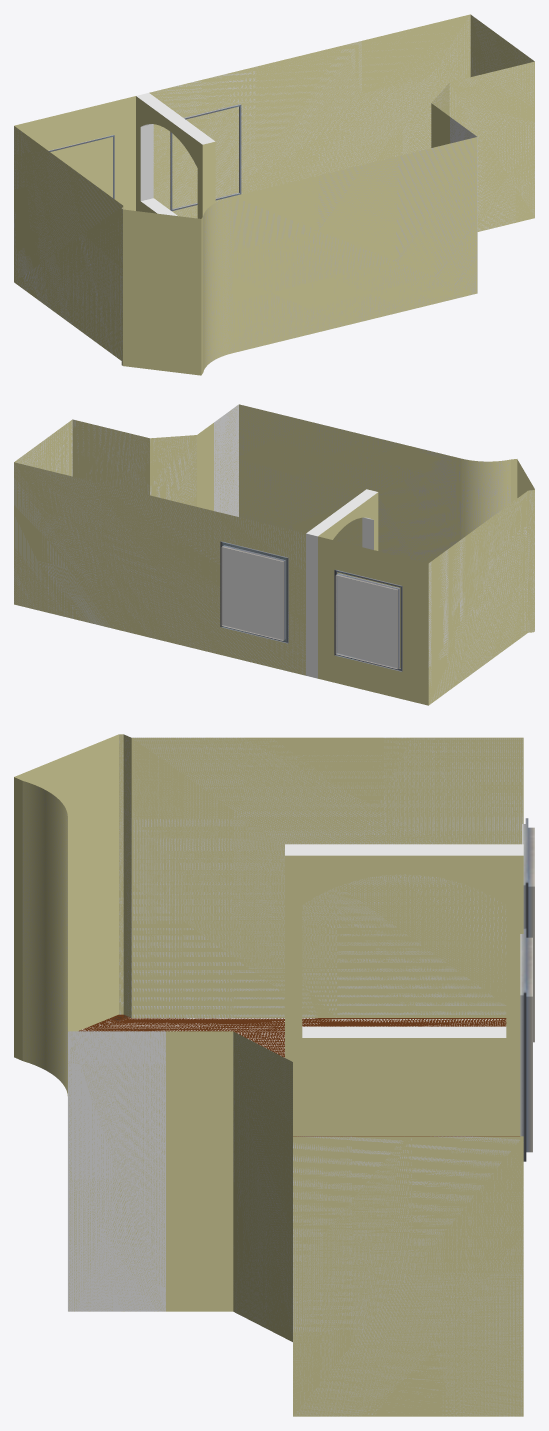
The model's file is Loft_Tmp2.fbx.
3 renders of one model, top to bottom at view 1: azimuth 30°, elevation 25°; view 2: azimuth 150°, elevation 25°; view 3: azimuth 270°, elevation 25°, orthographic. The views are drawn at different scales.
Visible parts, largest first — view 1: ID145, ID84, ID137, ID111, ID42, SketchUp, ID131, ID66, ID17; view 2: ID145, ID84, ID137, ID42, ID72, ID78, ID131, ID66, Window (×2), ID25 (×2), ID50, ID111 (+1 smaller); view 3: ID137, ID145, ID131, ID42, ID111, ID84, ID92, ID66, Window (×2), SketchUp, ID25, ID17.
Boxes of the visible parts, x1,y1,x2,y2 form: ID145: [149, 14, 534, 231]; ID84: [203, 137, 477, 371]; ID137: [14, 126, 123, 365]; ID111: [123, 209, 203, 375]; ID42: [14, 96, 215, 218]; SketchUp: [140, 124, 177, 215]; ID131: [431, 103, 476, 147]; ID66: [136, 93, 215, 144]; ID17: [170, 104, 241, 210]; ID145: [14, 419, 305, 675]; ID84: [239, 404, 510, 563]; ID137: [428, 489, 534, 705]; ID42: [318, 492, 428, 705]; ID72: [223, 547, 283, 639]; ID78: [337, 575, 397, 667]; ID131: [197, 404, 238, 516]; ID66: [306, 489, 377, 678]; Window (×2): [221, 545, 399, 668]; ID25 (×2): [220, 541, 402, 671]; ID50: [221, 542, 287, 641]; ID111: [511, 459, 534, 502]; ID137: [119, 734, 523, 1017]; ID145: [233, 1031, 523, 1416]; ID131: [68, 1031, 233, 1311]; ID42: [285, 855, 523, 1135]; ID111: [14, 734, 118, 1060]; ID84: [22, 781, 67, 1095]; ID92: [78, 1014, 519, 1136]; ID66: [285, 844, 523, 855]; Window (×2): [526, 827, 534, 1152]; SketchUp: [302, 1026, 506, 1037]; ID25: [523, 928, 526, 1161]; ID17: [520, 934, 523, 1136].
Size of what is drawn, in the model's own units: 2181 by 1194 by 709.
4 materials, 2 textured.
